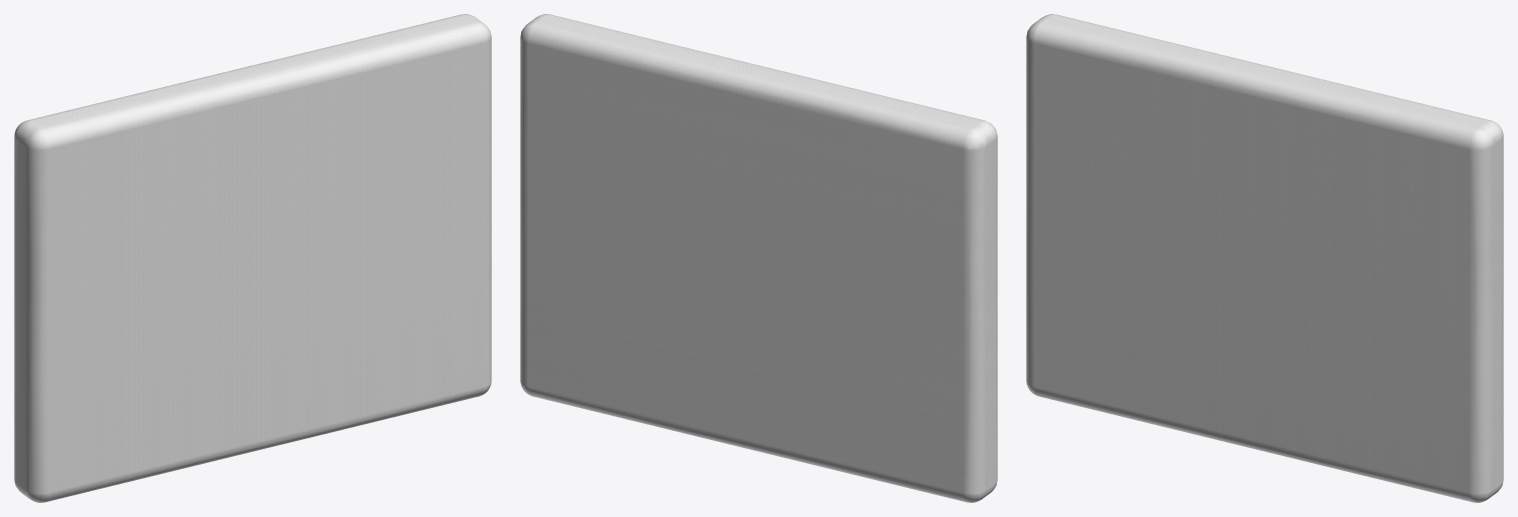
File: FutureHouse20.gltf
The picture shows the model from 3 angles, left to right: view 1: azimuth 30°, elevation 25°; view 2: azimuth 150°, elevation 25°; view 3: azimuth 330°, elevation 25°; orthographic projection.
Bounding box in the file's own units: 0.8476 × 0.652 × 0.0831.
1 material, 1 textured.
